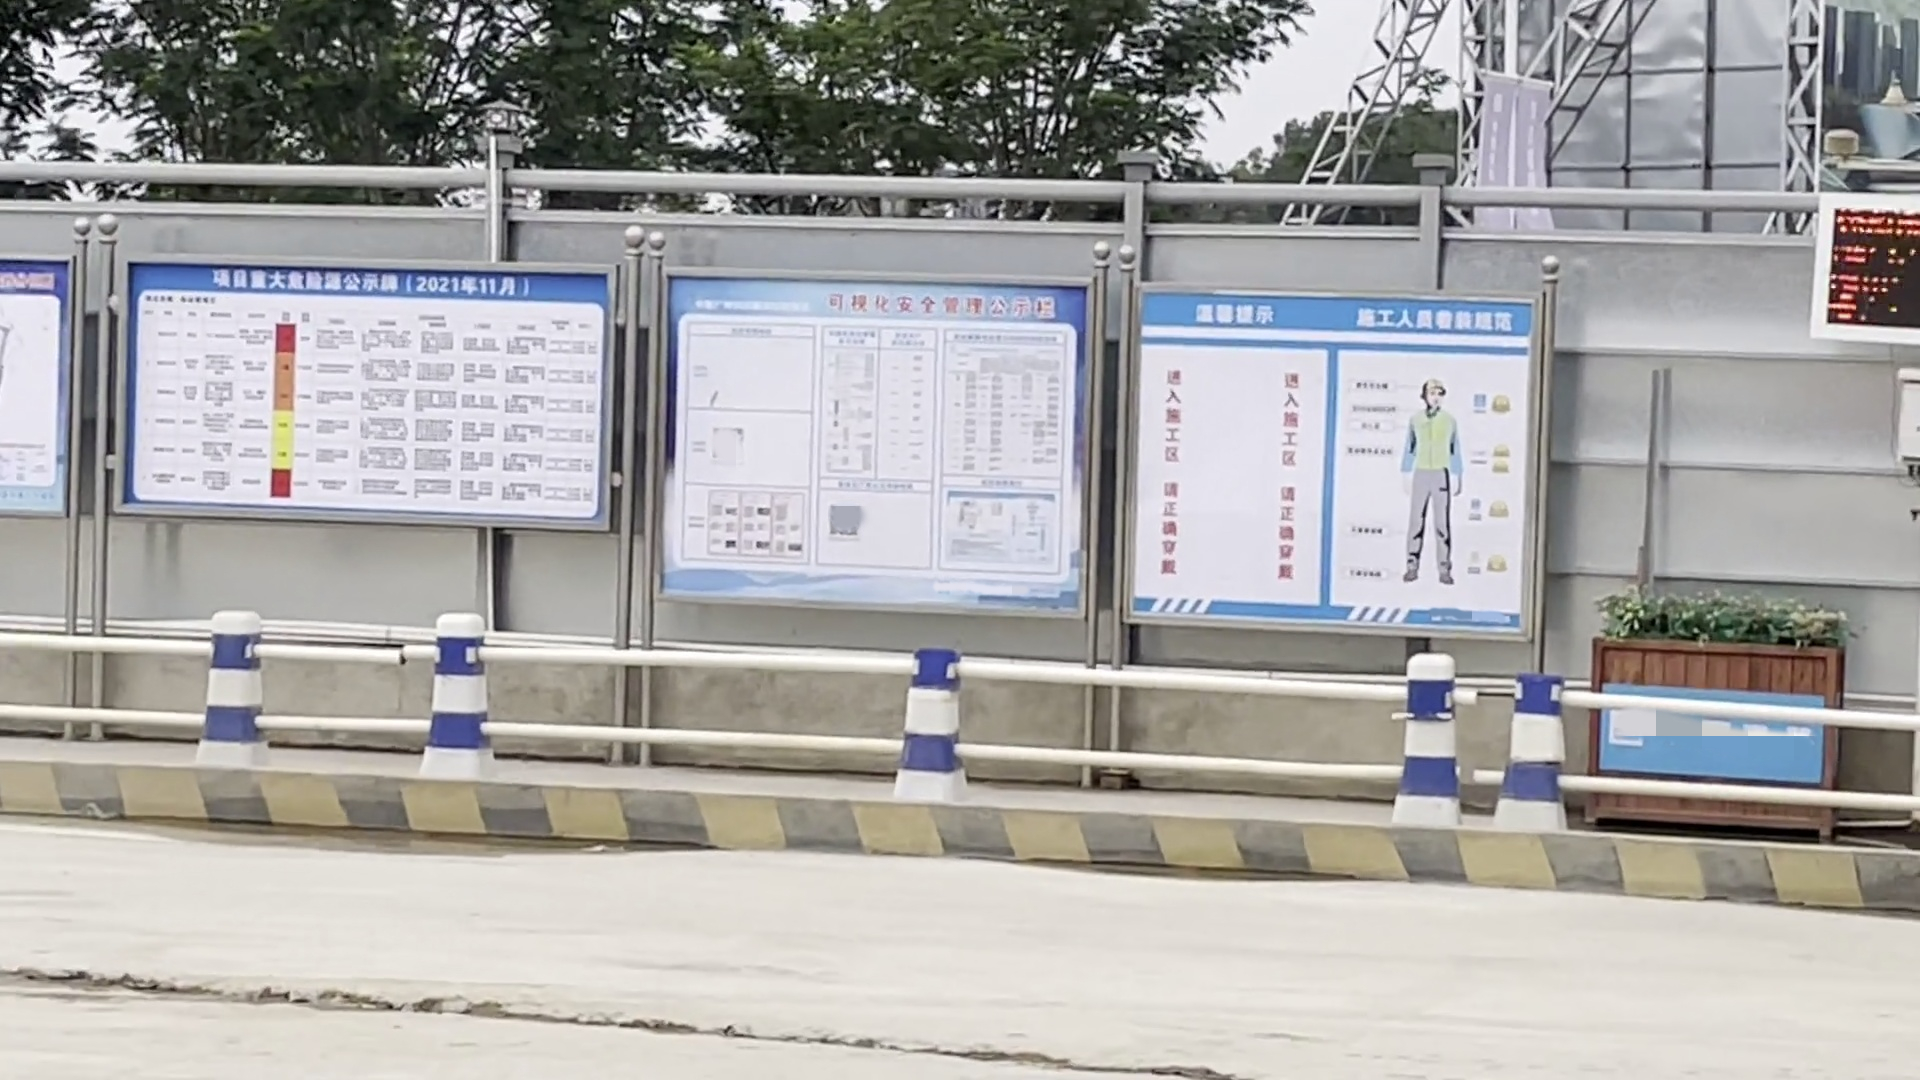slogan: (661, 266, 1083, 612), (1133, 278, 1526, 645), (113, 258, 625, 533), (3, 257, 74, 518)
